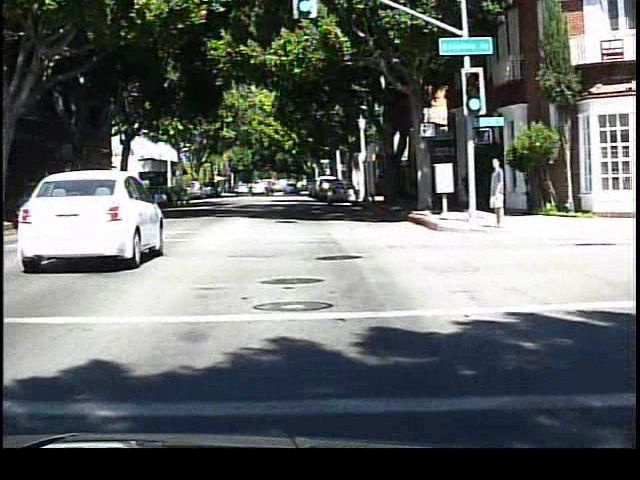person: (484, 154, 510, 230)
